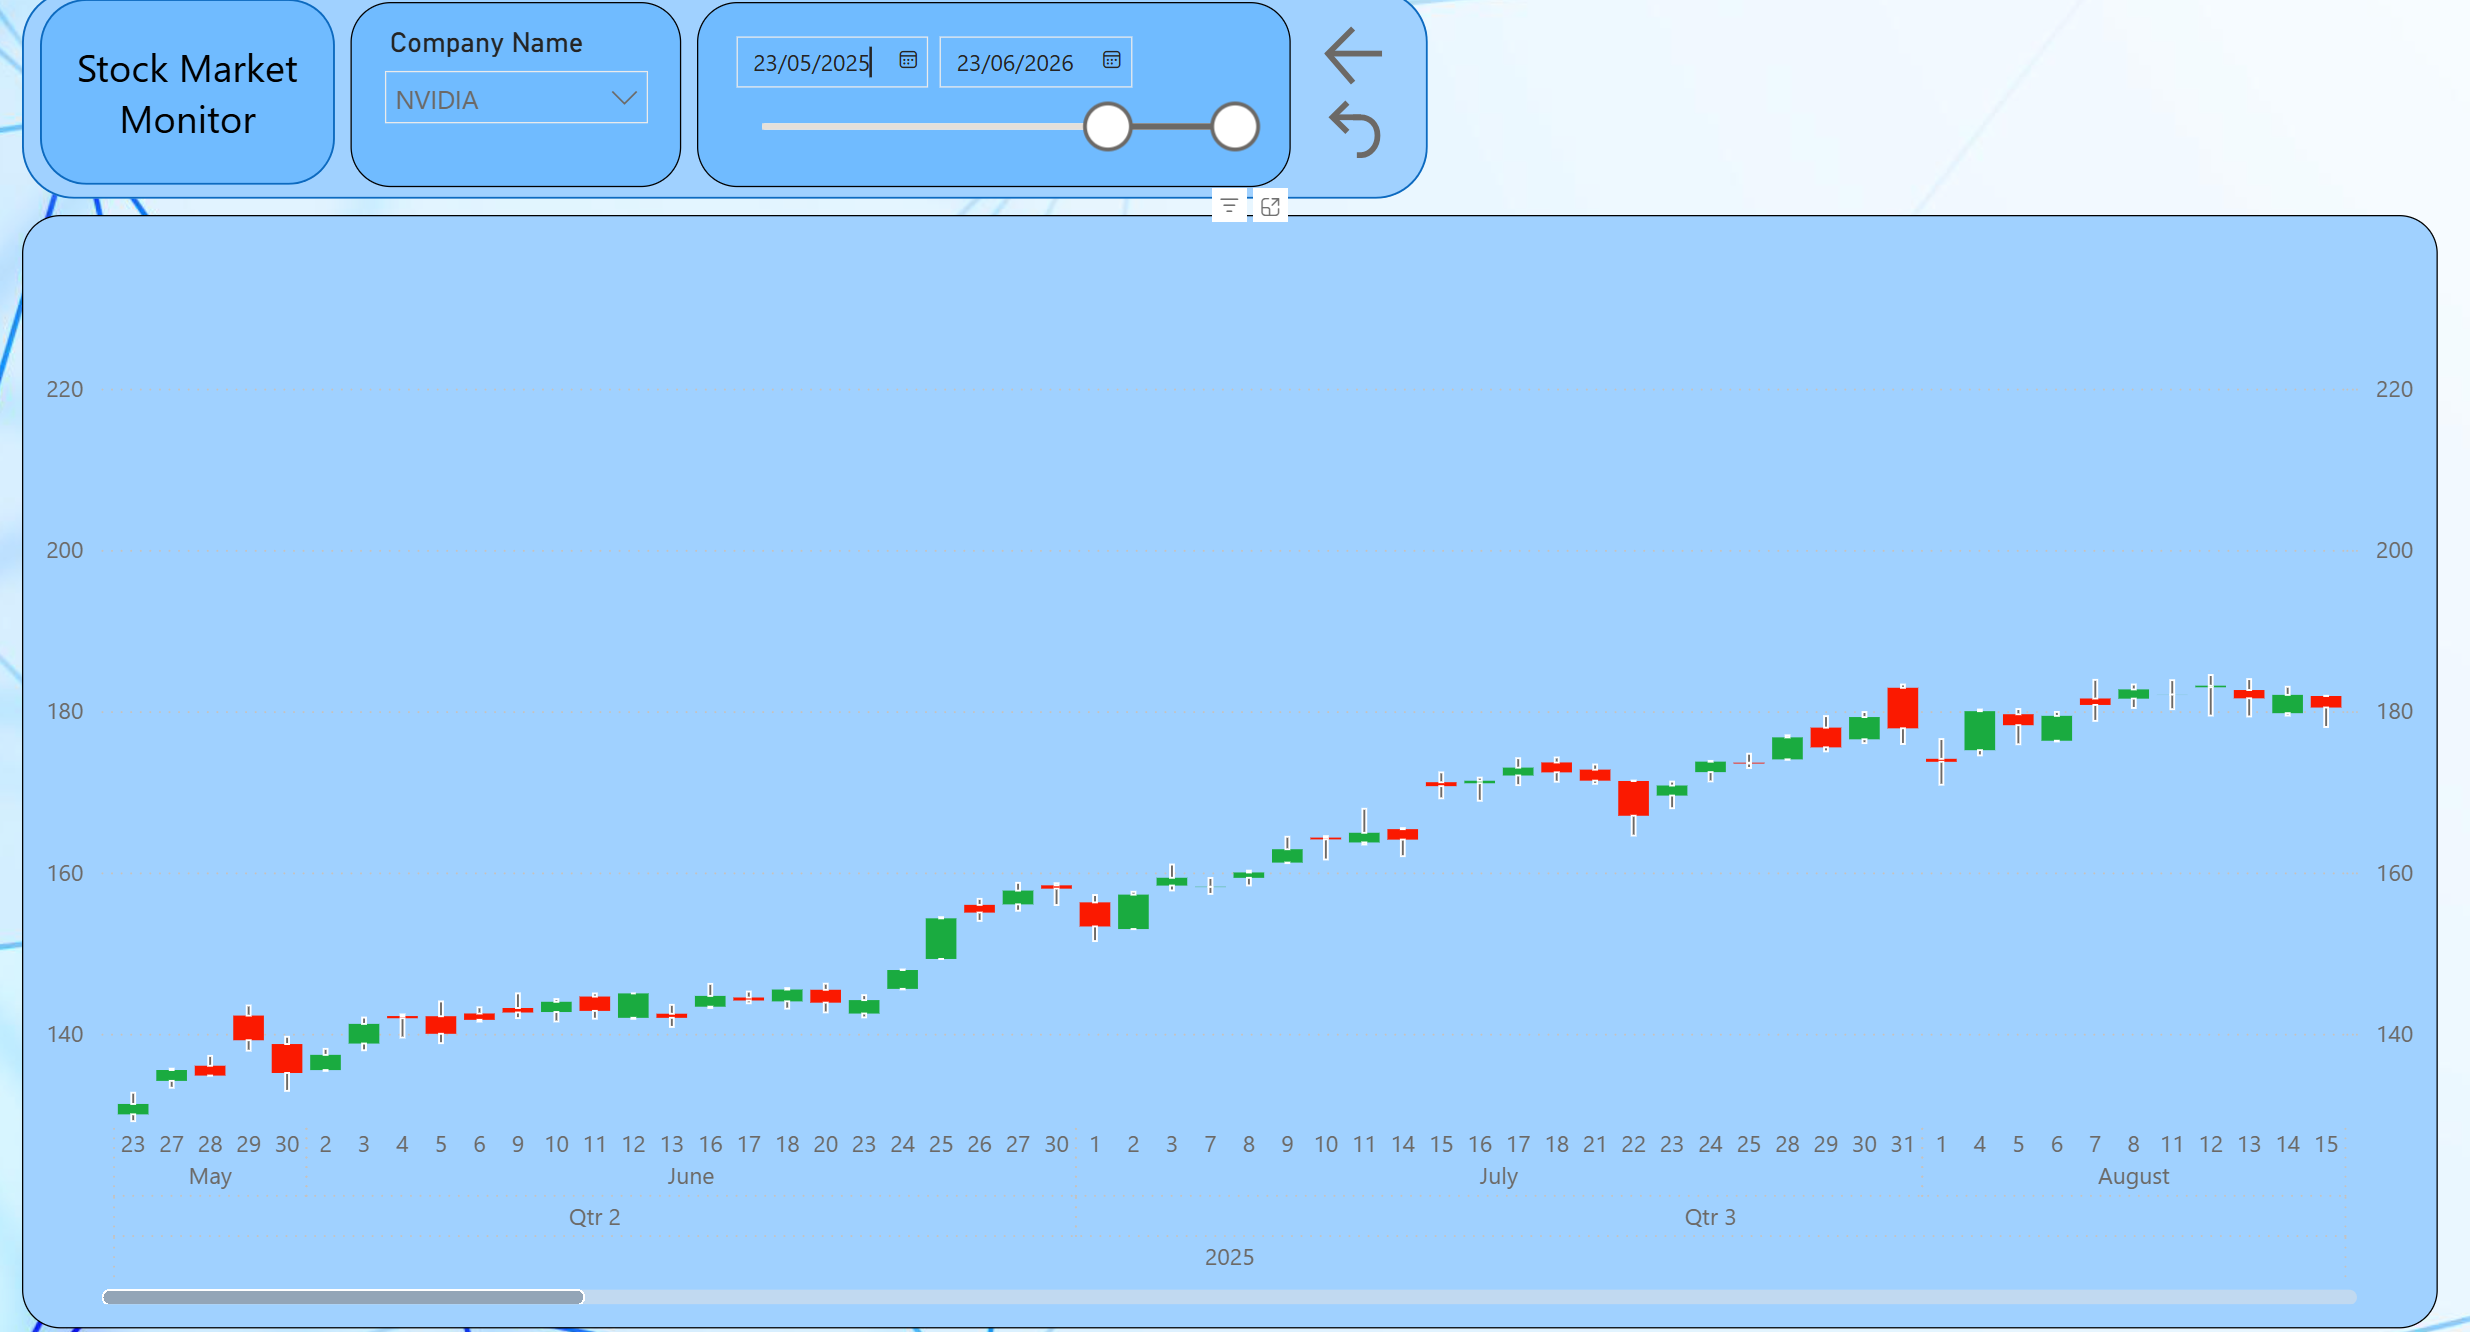

What the dashboard file says about the page in this screenshot:
{"tool":"powerbi","page":{"name":"Individual Market","canvas":[1280,720],"ordinal":1},"visuals":[{"type":"lineStackedColumnComboChart","fields":{"Y":["measure_table.placeholder_base_t","measure_table.bar_red_t","measure_table.bar_green_t"],"Y2":["Sum(fact_stock.high)","Sum(fact_stock.low)"],"Category":["dim_date.date.Variation.Date Hierarchy.Year","dim_date.date.Variation.Date Hierarchy.Quarter","dim_date.date.Variation.Date Hierarchy.Month","dim_date.date.Variation.Date Hierarchy.Day"]},"box":[7.8,117.8,1261.1,581.1],"z":0},{"type":"shape","title":"Sotkc","box":[8,0,734,109],"z":1000},{"type":"shape","box":[17,5,154,97],"z":2000},{"type":"slicer","fields":{"Values":["fact_stock.name"]},"box":[179,6,173,96.6],"z":3000},{"type":"slicer","fields":{"Values":["dim_date.date"]},"box":[360.1,6,309.8,96.6],"z":4000},{"type":"actionButton","box":[683.9,14.1,58.3,40.2],"z":5000},{"type":"actionButton","box":[683.9,52.3,58.3,40.2],"z":6000}]}

Visuals, with their boxes on the page's 1280x720 design canvas (x1, y1, x2, y2). These are canvas units, not pixel positions in the 2470x1332 screenshot, which may show the page scaled, cropped or inside an application window:
lineStackedColumnComboChart - measure_table.placeholder_base_t x measure_table.bar_red_t: (8, 118, 1269, 699)
"Sotkc" shape: (8, 0, 742, 109)
shape: (17, 5, 171, 102)
slicer - fact_stock.name: (179, 6, 352, 103)
slicer - dim_date.date: (360, 6, 670, 103)
actionButton: (684, 14, 742, 54)
actionButton: (684, 52, 742, 92)
